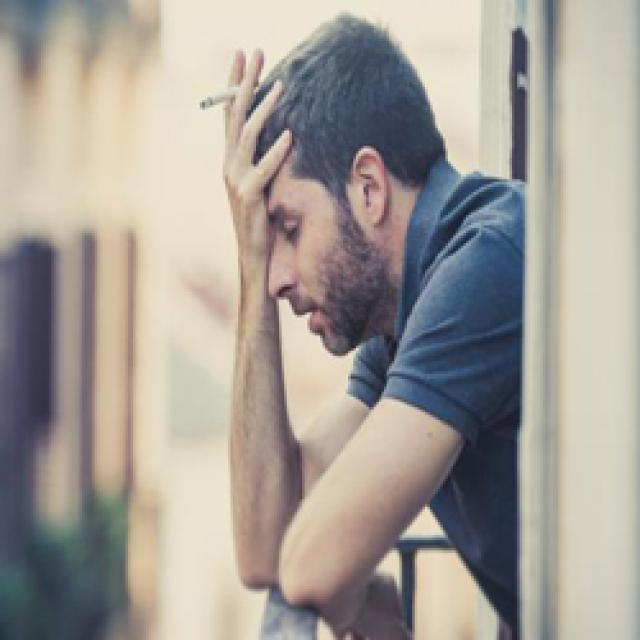Smooking: (188, 84, 266, 108)
